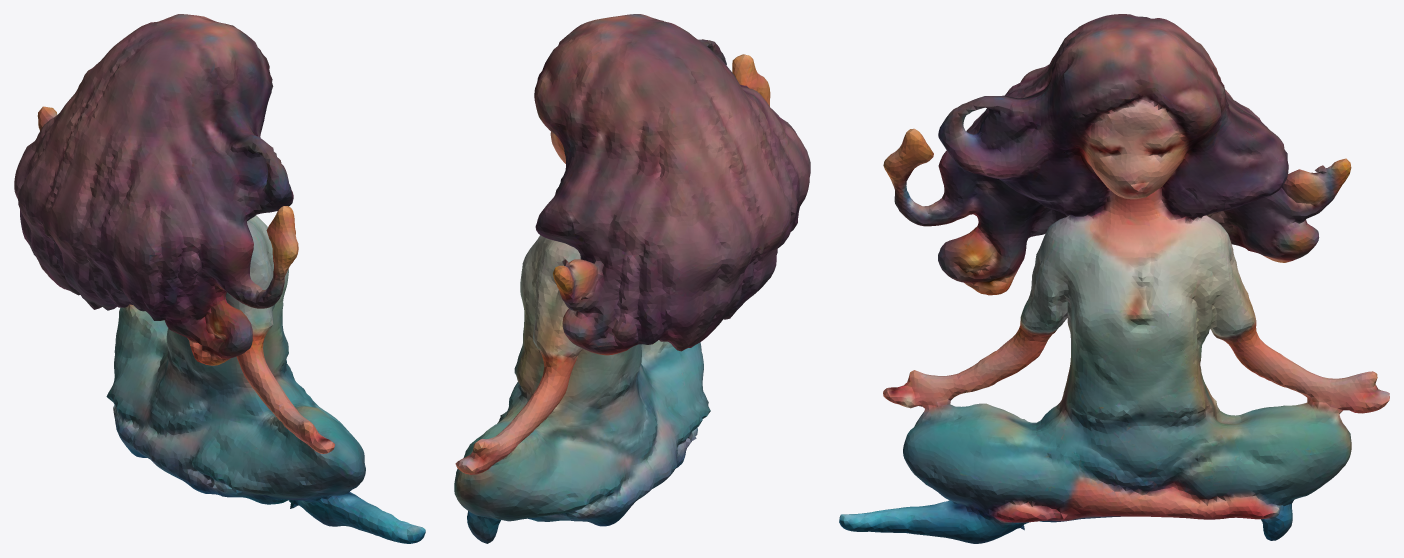
The model's file is girl_meditation.glb.
3 views of the same model, side by side, from view 1: azimuth 30°, elevation 25°; view 2: azimuth 150°, elevation 25°; view 3: azimuth 270°, elevation 25° (orthographic). The views are drawn at different scales.
Size of the model in its own units: 0.8938 by 1.6 by 1.67.
1 material, 1 textured.
